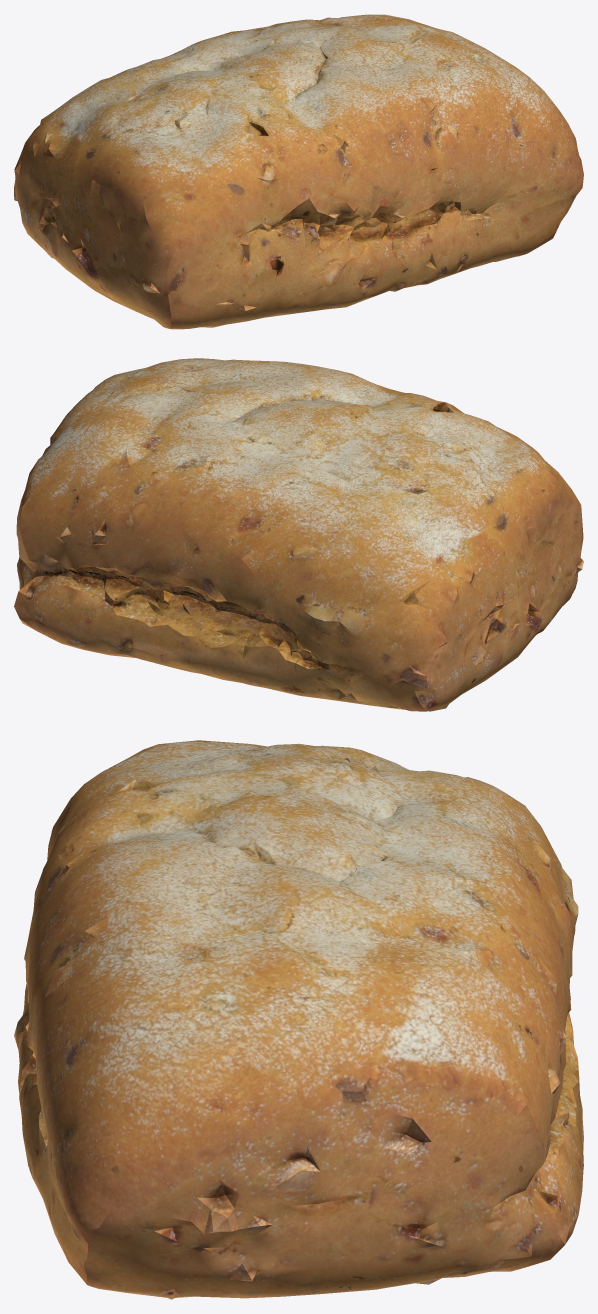
File: 3DBread008_LQ-1K-JPG.obj
The picture shows the model from 3 angles, top to bottom: view 1: azimuth 30°, elevation 25°; view 2: azimuth 150°, elevation 25°; view 3: azimuth 270°, elevation 25°; orthographic projection. The views are drawn at different scales.
Visible parts, largest first — view 1: 3DBread008_LQ-1K-JPG; view 2: 3DBread008_LQ-1K-JPG; view 3: 3DBread008_LQ-1K-JPG.
Boxes of the visible parts, box(x1,y1,x2,y2) form: 3DBread008_LQ-1K-JPG: box(14, 14, 583, 329); 3DBread008_LQ-1K-JPG: box(14, 358, 583, 711); 3DBread008_LQ-1K-JPG: box(14, 740, 583, 1299).
Bounding box in the file's own units: 0.1225 × 0.0506 × 0.0828.
Materials: 1 (1 with a texture image).
